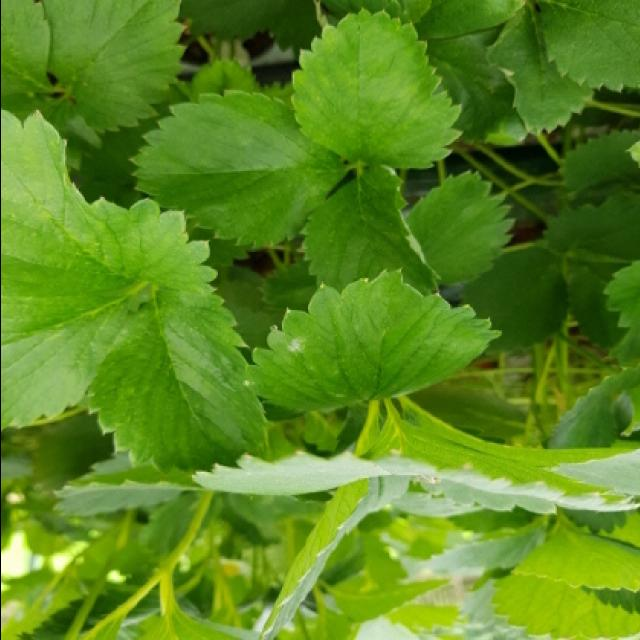Powdery Mildew Leaf: (246, 265, 503, 415)
